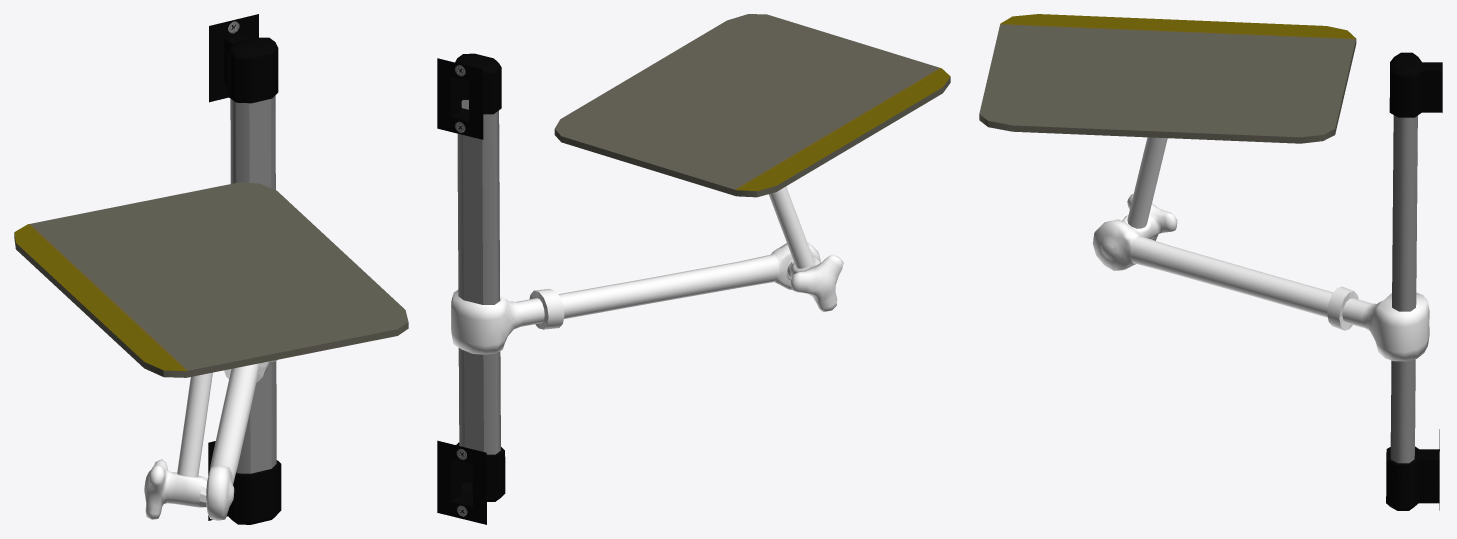
File: PlatformForBox.fbx
3 views of the same model, side by side, from view 1: azimuth 30°, elevation 25°; view 2: azimuth 150°, elevation 25°; view 3: azimuth 270°, elevation 25° (orthographic). The views are drawn at different scales.
Parts seen in each view (by area): view 1: Platform, Wall_Roller_Tube, polySurface4; view 2: Platform, Wall_Roller_Tube, polySurface4; view 3: Platform, polySurface4, Wall_Roller_Tube.
Part boxes in pixels (<box>): Platform: <box>14,182,408,377</box>; Wall_Roller_Tube: <box>208,14,281,524</box>; polySurface4: <box>144,359,277,520</box>; Platform: <box>554,14,950,197</box>; Wall_Roller_Tube: <box>437,53,505,524</box>; polySurface4: <box>451,186,843,354</box>; Platform: <box>979,14,1356,143</box>; polySurface4: <box>1092,137,1429,361</box>; Wall_Roller_Tube: <box>1386,52,1442,510</box>.
Size of the model in its own units: 0.0395 by 0.0554 by 0.0505.
